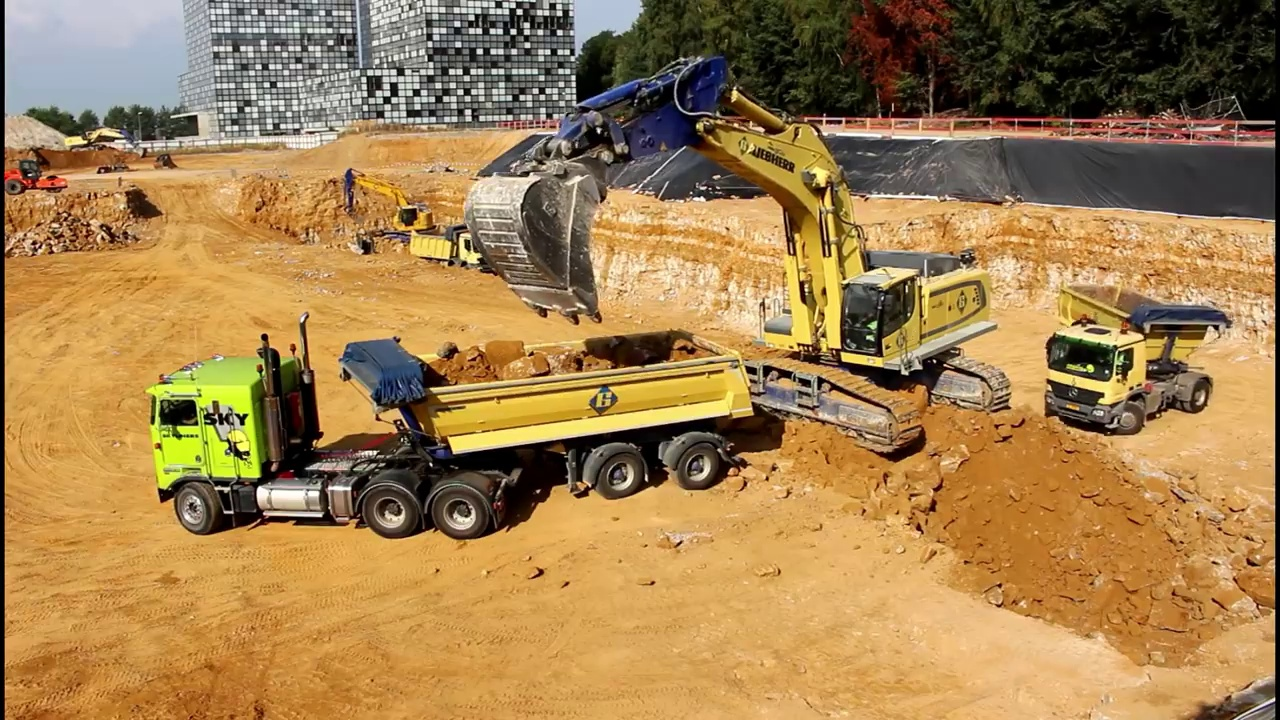compactor: (5, 159, 73, 196)
excavator: (457, 47, 1018, 462), (339, 162, 443, 255), (64, 124, 147, 159)
truck: (139, 309, 760, 547), (1040, 278, 1233, 440), (402, 219, 512, 290)
